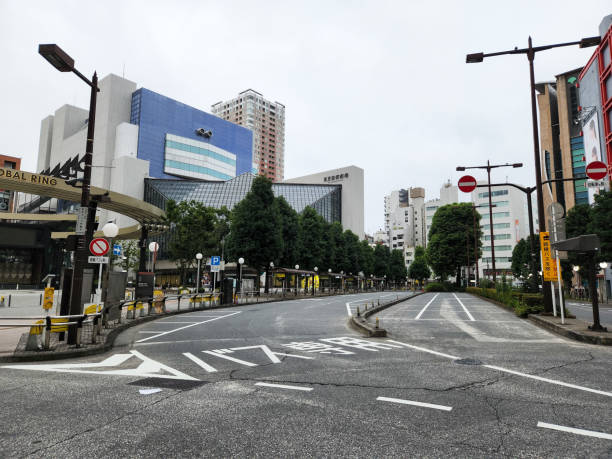Girilmez: (585, 157, 609, 180), (456, 174, 479, 195)
